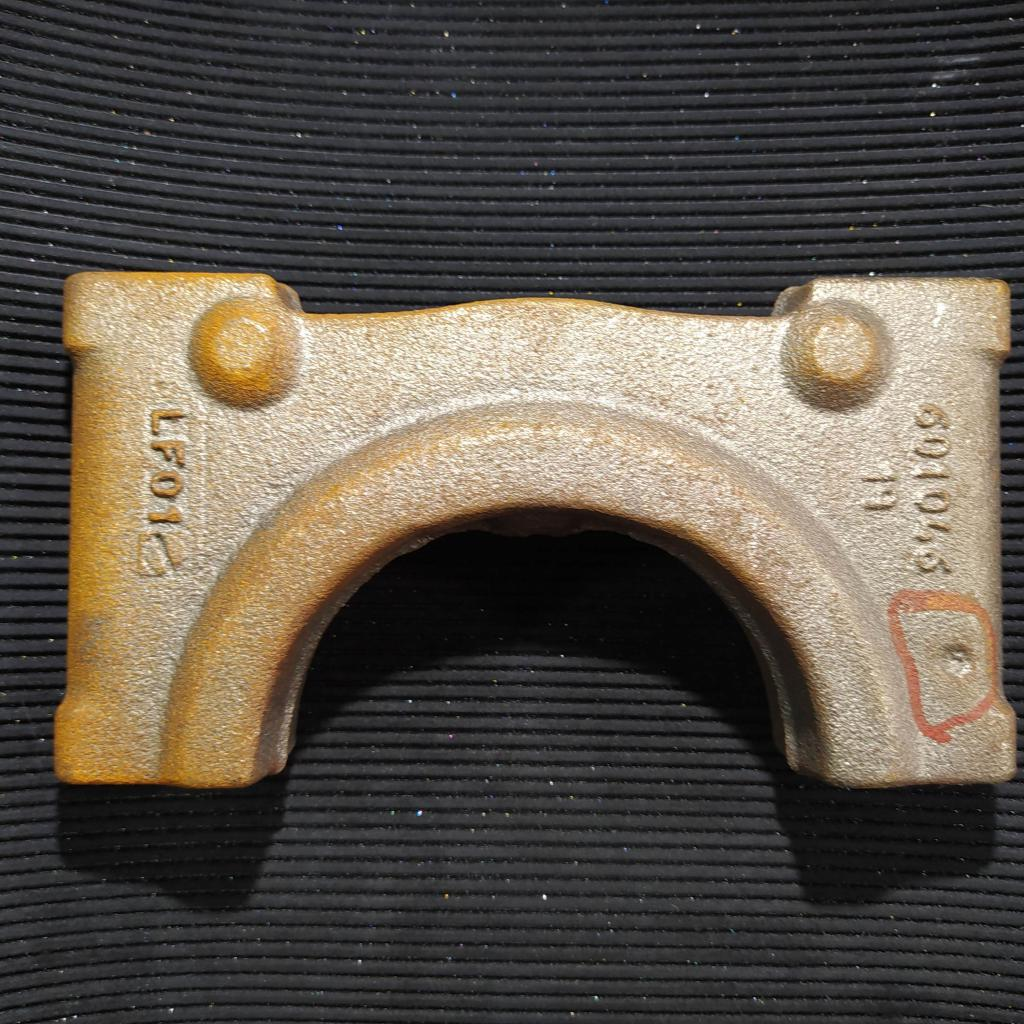buraco: (937, 640, 978, 686)
